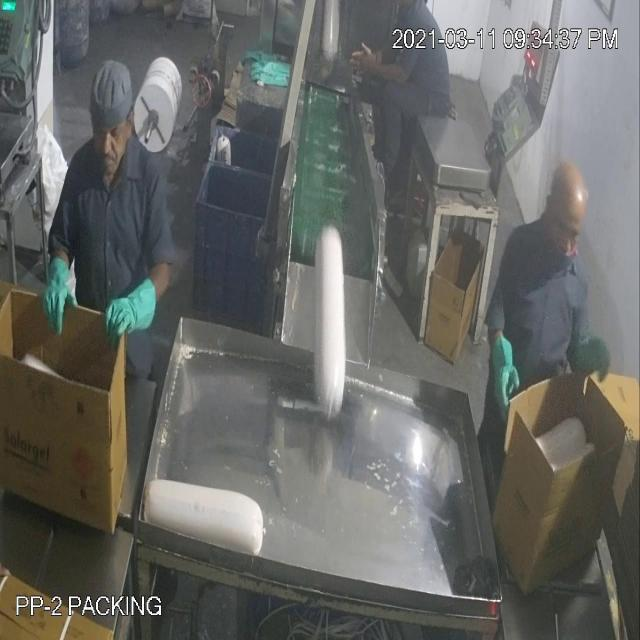No_Gloves: (45, 50, 588, 384)
